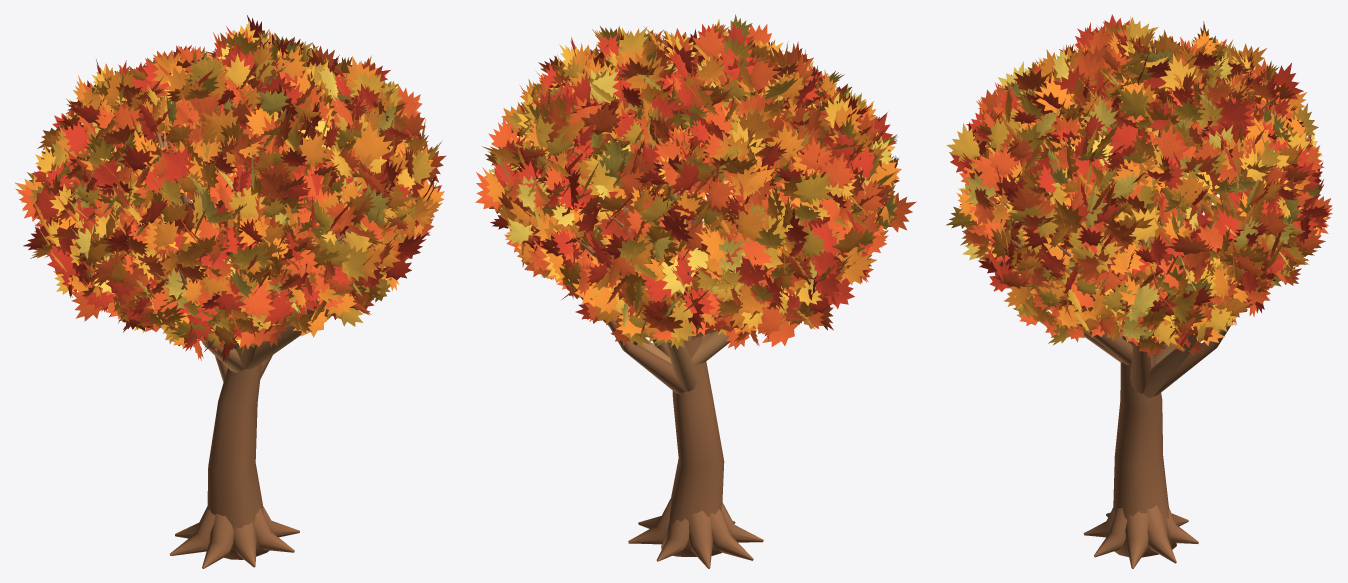
File: autumn_maple_tree.glb
3 views of the same model, side by side, from view 1: azimuth 30°, elevation 25°; view 2: azimuth 150°, elevation 25°; view 3: azimuth 270°, elevation 25° (orthographic).
Visible parts, largest first — view 1: Autumn_Maple_Tree; view 2: Autumn_Maple_Tree; view 3: Autumn_Maple_Tree.
Part boxes in pixels (x1,y1,x2,y2): Autumn_Maple_Tree: [15, 15, 446, 568]; Autumn_Maple_Tree: [475, 14, 916, 568]; Autumn_Maple_Tree: [946, 14, 1332, 568].
Size of the model in its own units: 5.28 by 6.72 by 4.7.
